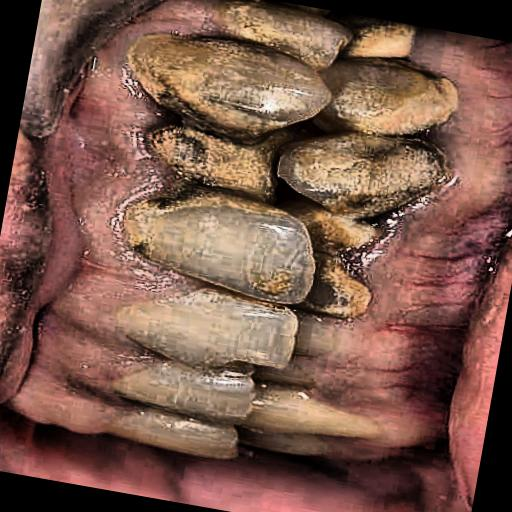Calculus: (41, 0, 464, 446)
